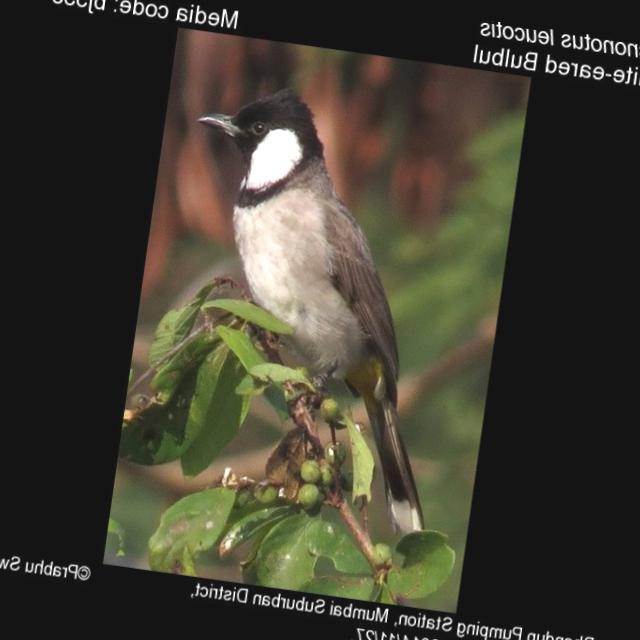bird: (143, 65, 480, 547)
